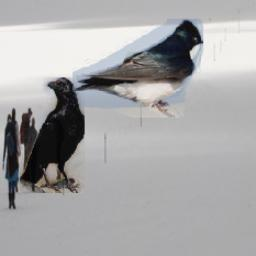Crow: (21, 77, 86, 193)
Swallow: (74, 19, 204, 118)
